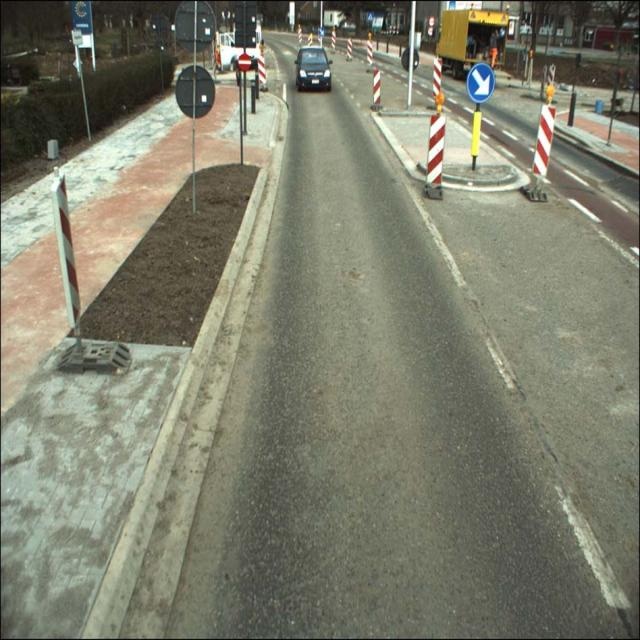girisyok: (238, 54, 251, 71)
